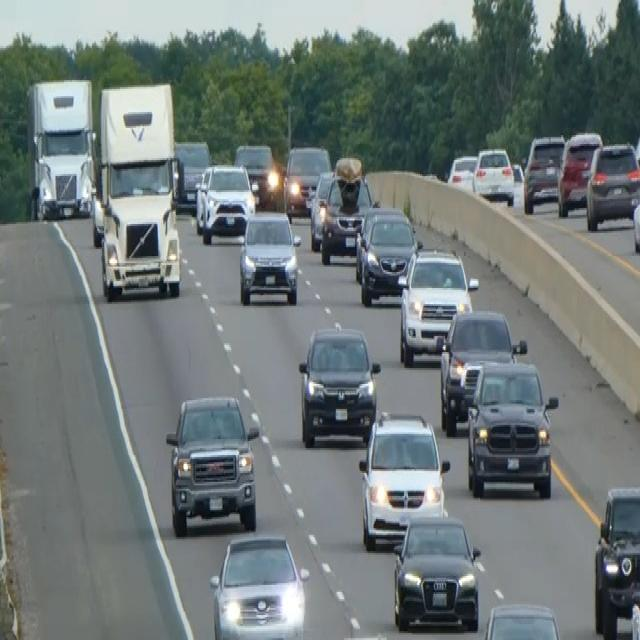car: (465, 357, 558, 498), (358, 409, 449, 549), (438, 308, 525, 436), (392, 512, 481, 631), (297, 324, 380, 446), (209, 534, 306, 638), (398, 247, 478, 366), (593, 484, 639, 638), (354, 204, 420, 306), (238, 208, 301, 306), (320, 156, 374, 265), (196, 160, 255, 244), (585, 141, 639, 231), (557, 130, 602, 217), (283, 142, 331, 219), (522, 134, 565, 214), (233, 140, 279, 207), (482, 601, 563, 638), (173, 137, 211, 208), (472, 146, 515, 204), (307, 169, 335, 251), (446, 153, 477, 190), (632, 192, 639, 254)
jeep: (164, 391, 260, 537)
lorry: (91, 80, 182, 300), (25, 74, 95, 220)
